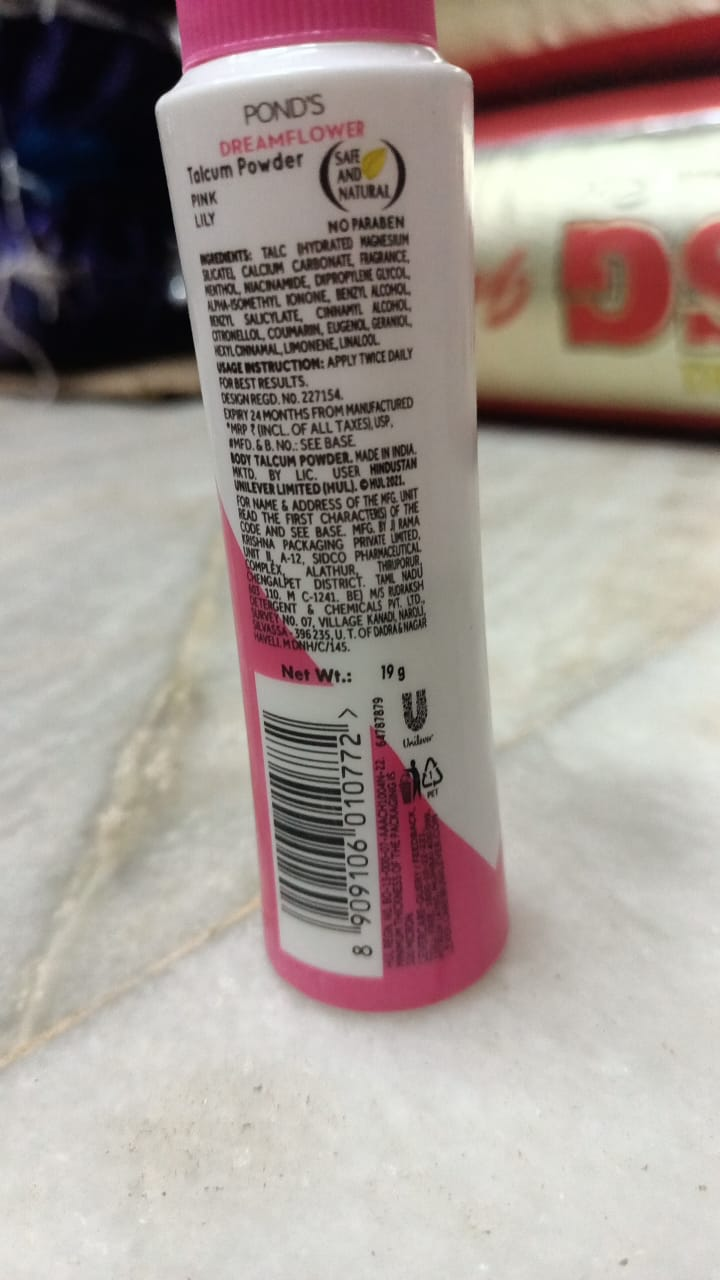ponds face powder: (131, 19, 652, 1051)
